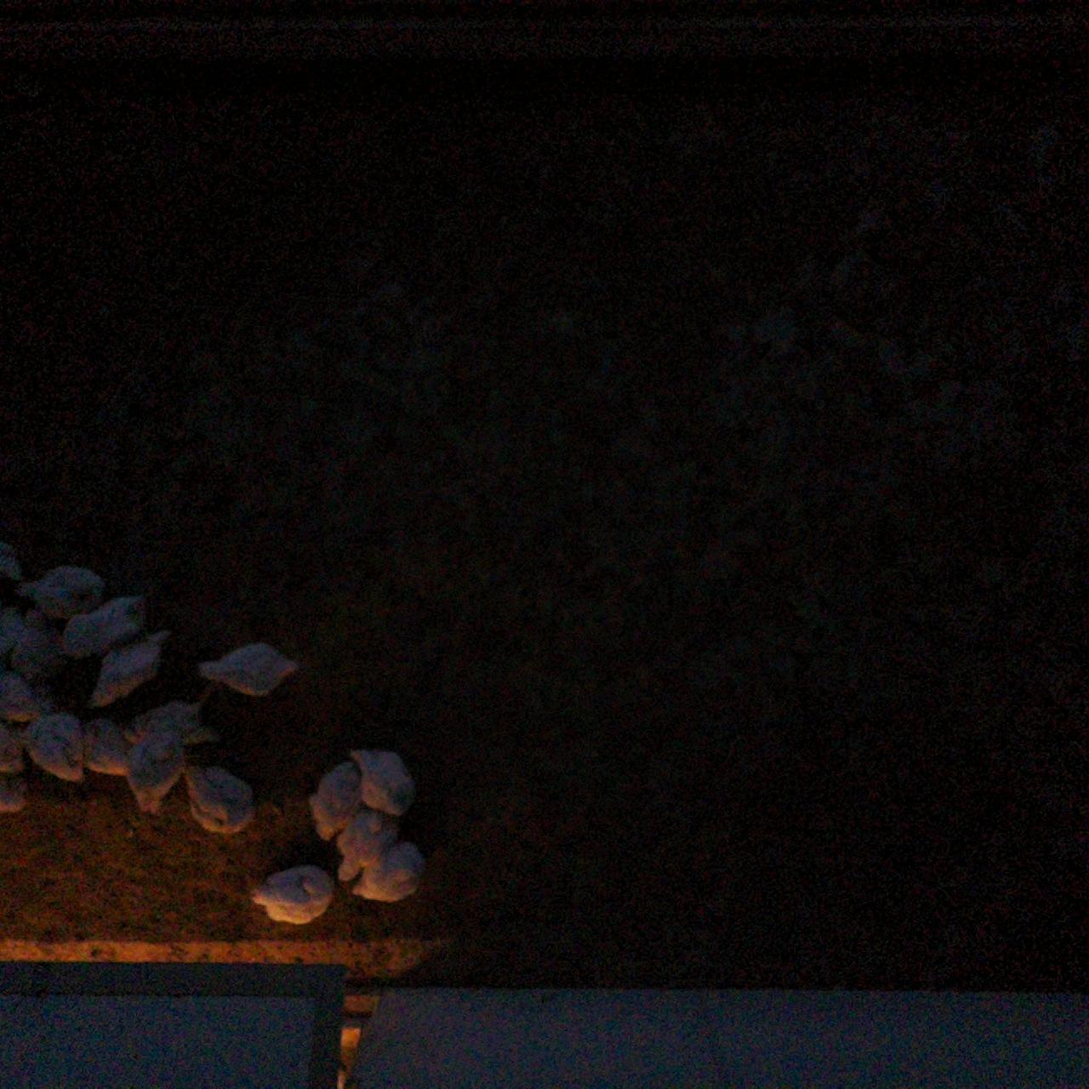chicken: (86, 624, 178, 708), (174, 758, 260, 835), (60, 592, 152, 663), (194, 637, 301, 696), (248, 860, 338, 929), (331, 804, 404, 886), (309, 757, 374, 849), (124, 730, 187, 818), (354, 840, 435, 907), (345, 745, 418, 818), (21, 699, 82, 786), (123, 695, 215, 751), (18, 562, 105, 621), (11, 602, 67, 673), (65, 713, 125, 775), (0, 664, 56, 726), (0, 725, 30, 777), (0, 597, 22, 657), (0, 537, 23, 585), (0, 783, 30, 818)
